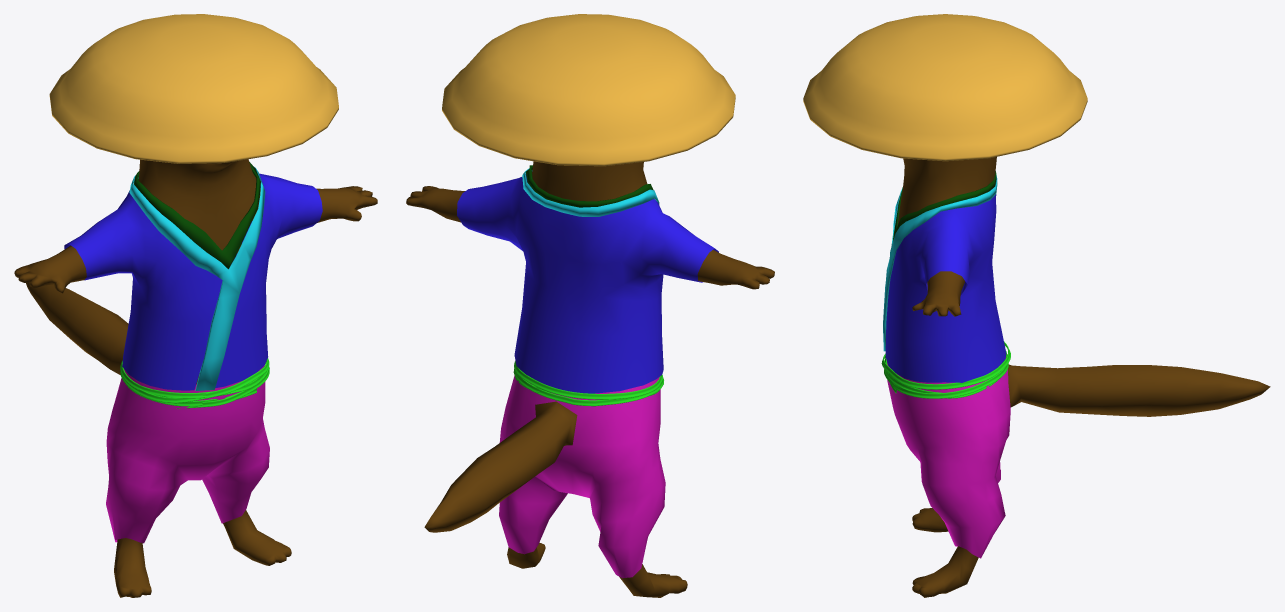
Rendered from Otter Character Finishedv4.fbx.
The picture shows the model from 3 angles, left to right: view 1: azimuth 30°, elevation 25°; view 2: azimuth 150°, elevation 25°; view 3: azimuth 270°, elevation 25°; orthographic projection. The views are drawn at different scales.
Visible parts, largest first — view 1: Bady_Mink.005; view 2: Bady_Mink.005; view 3: Bady_Mink.005.
Boxes of the visible parts, bbox=[...] form: Bady_Mink.005: bbox=[14, 14, 377, 597]; Bady_Mink.005: bbox=[406, 14, 774, 597]; Bady_Mink.005: bbox=[803, 14, 1270, 597].
Size of the model in its own units: 70.01 by 101 by 82.15.
